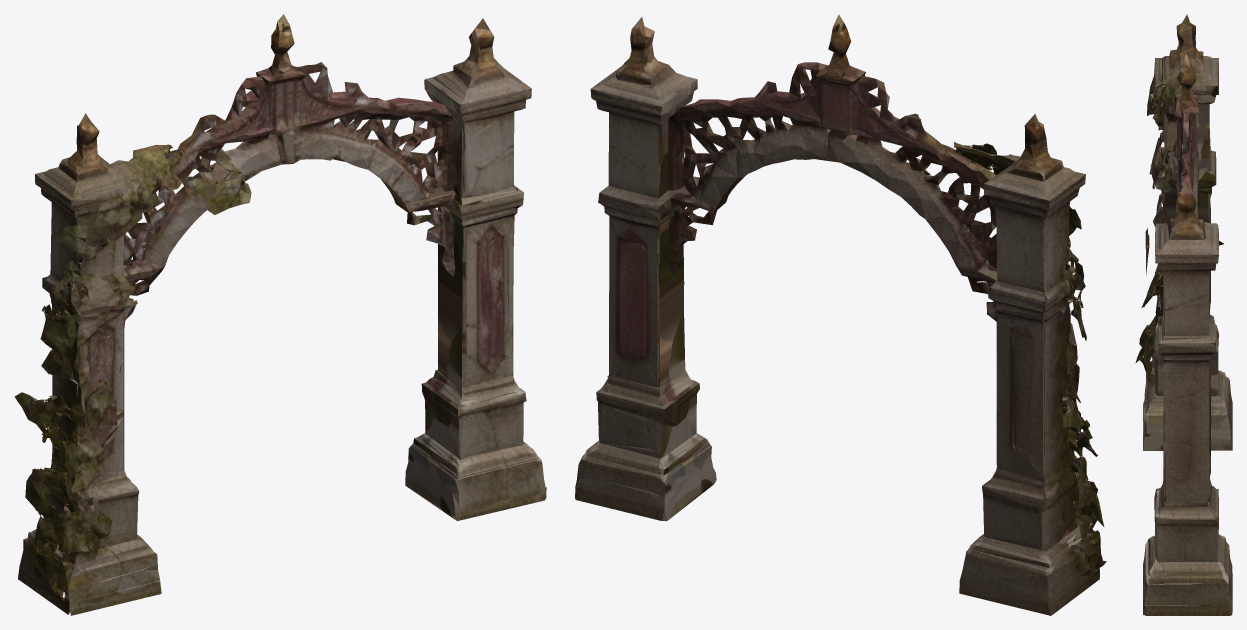
File: park_ivy_arch_1117.glb
3 renders of one model, left to right at view 1: azimuth 30°, elevation 25°; view 2: azimuth 150°, elevation 25°; view 3: azimuth 270°, elevation 25°, orthographic. The views are drawn at different scales.
Parts seen in each view (by area): view 1: world; view 2: world; view 3: world.
Part boxes in pixels (x1,y1,x2,y2): world: (14,14,546,615); world: (575,14,1106,615); world: (1135,14,1232,615).
Bounding box in the file's own units: 0.9802 × 1 × 0.1914.
Materials: 1 (1 with a texture image).
